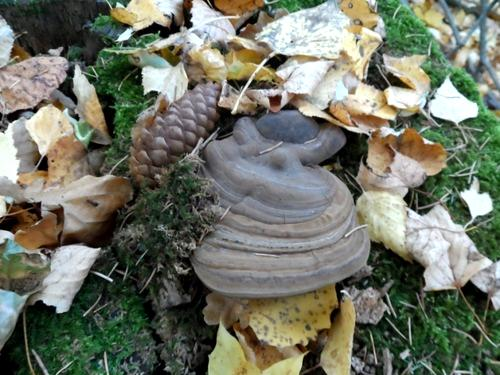Ganoderma - Fruit Body: (197, 107, 373, 300)
